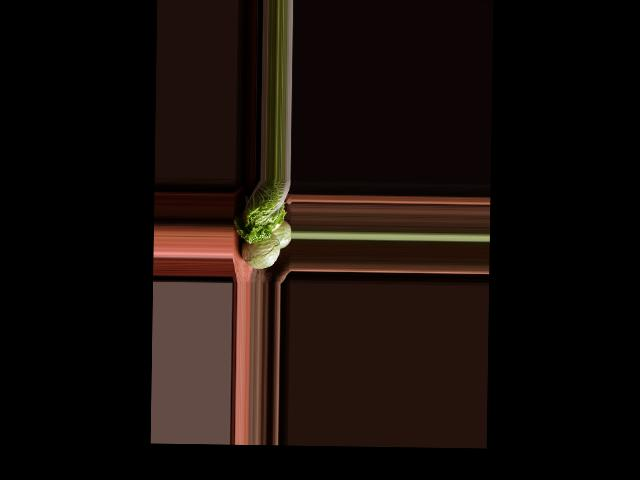lettuce: (232, 179, 288, 244)
